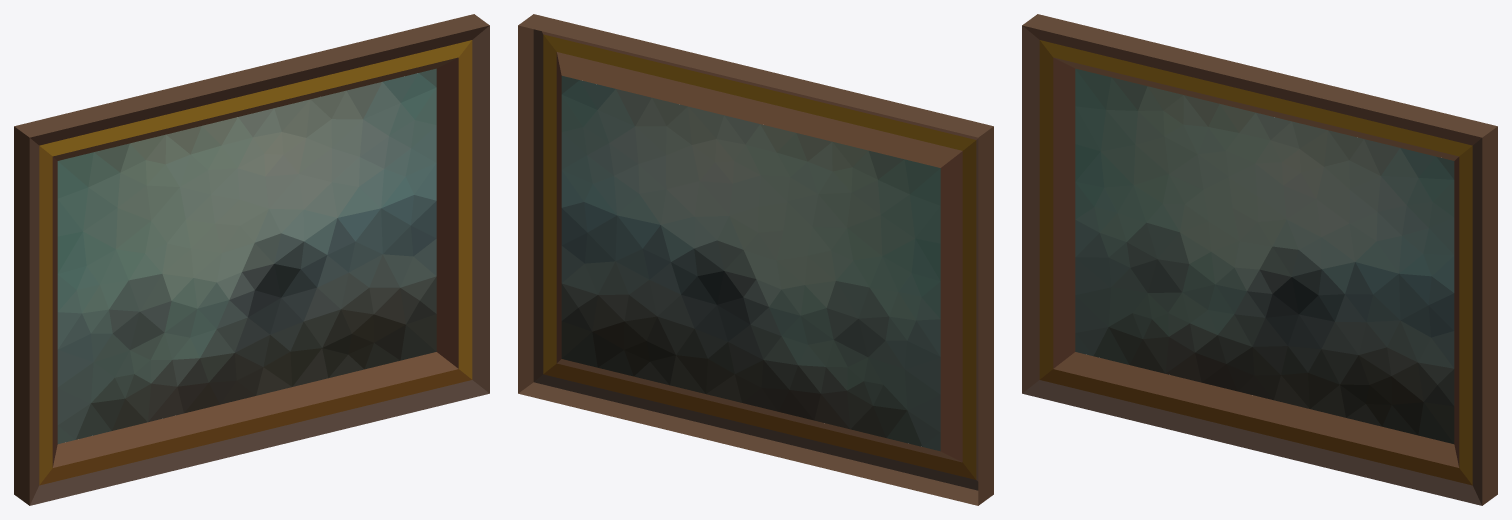
The model's file is Prop_PaintingD.fbx.
The picture shows the model from 3 angles, left to right: view 1: azimuth 30°, elevation 25°; view 2: azimuth 150°, elevation 25°; view 3: azimuth 330°, elevation 25°; orthographic projection.
Visible parts, largest first — view 1: Prop_PaintingD; view 2: Prop_PaintingD; view 3: Prop_PaintingD.
Boxes of the visible parts, bbox=[...] form: Prop_PaintingD: bbox=[14, 14, 489, 505]; Prop_PaintingD: bbox=[518, 14, 993, 505]; Prop_PaintingD: bbox=[1022, 14, 1497, 505].
Size of the model in its own units: 128 by 97.5 by 7.5.
